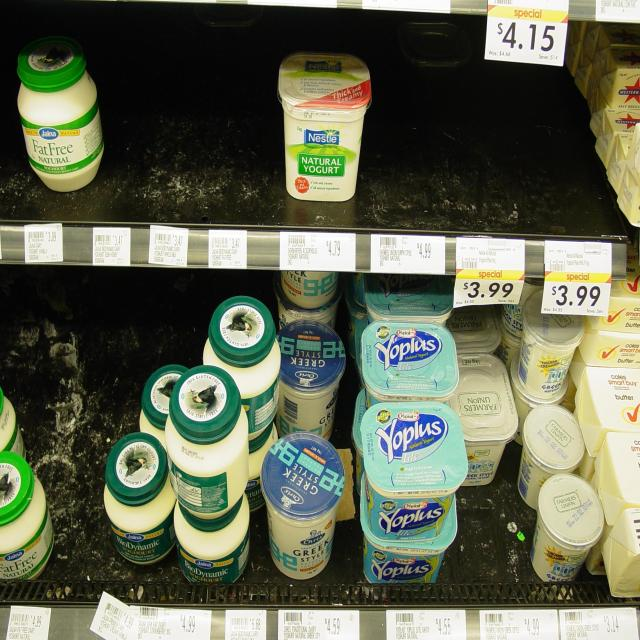empty_space: (388, 53, 582, 210), (115, 35, 269, 189), (20, 293, 116, 428), (136, 288, 198, 349), (464, 509, 512, 576)
